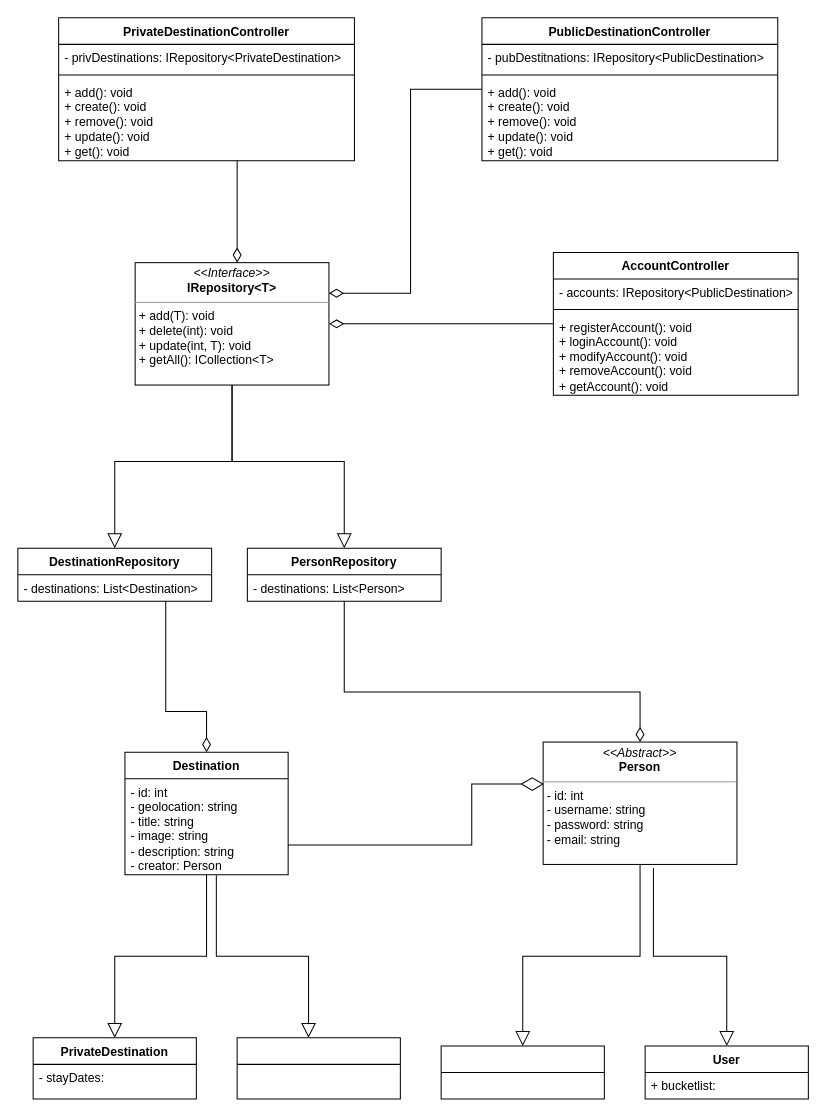
The diagram is 826 pixels wide and 1120 high, and some of its shapes have lost their labels. The shapes that lost their labels are listed below. From the top down, each one's centre as x and y in pixels, then its label:
[318,1068]: PublicDestination
[522,1072]: Admin
